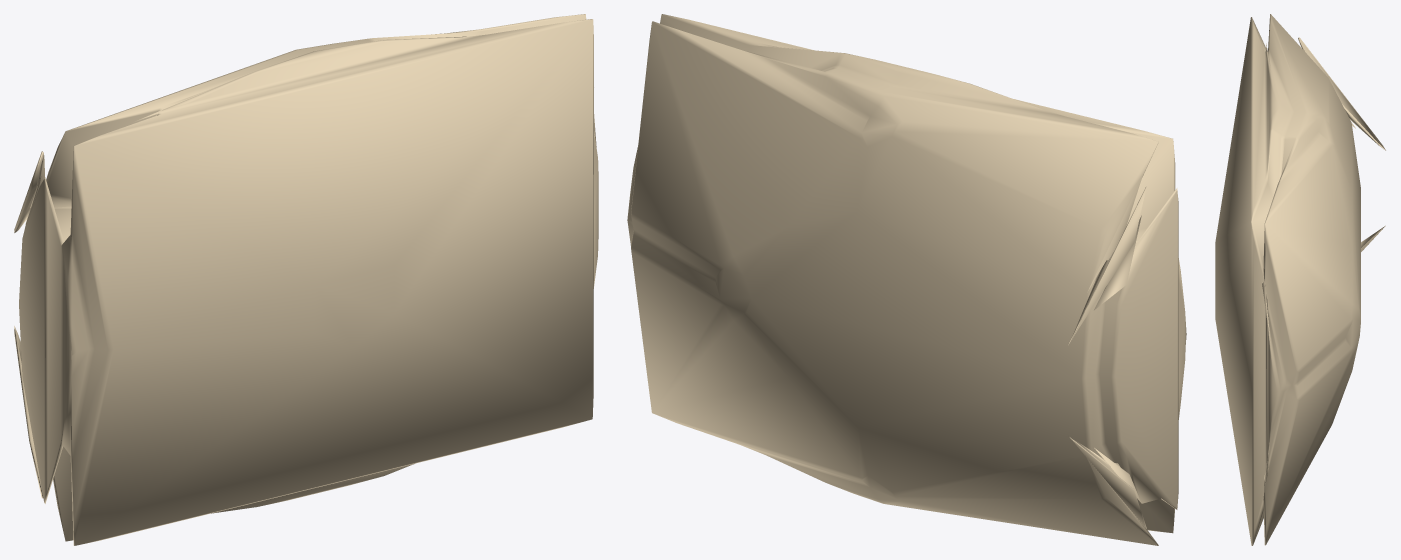
File: block_scout_tidemark.glb
The picture shows the model from 3 angles, left to right: view 1: azimuth 30°, elevation 25°; view 2: azimuth 150°, elevation 25°; view 3: azimuth 270°, elevation 25°; orthographic projection. The views are drawn at different scales.
Parts seen in each view (by area): view 1: block_scout_tidemark; view 2: block_scout_tidemark; view 3: block_scout_tidemark.
Part boxes in pixels (box(x1,y1,x2,y2)): block_scout_tidemark: box(14, 14, 598, 545); block_scout_tidemark: box(627, 14, 1186, 545); block_scout_tidemark: box(1215, 14, 1385, 545).
Bounding box in the file's own units: 3.17 × 2.4 × 1.05.
